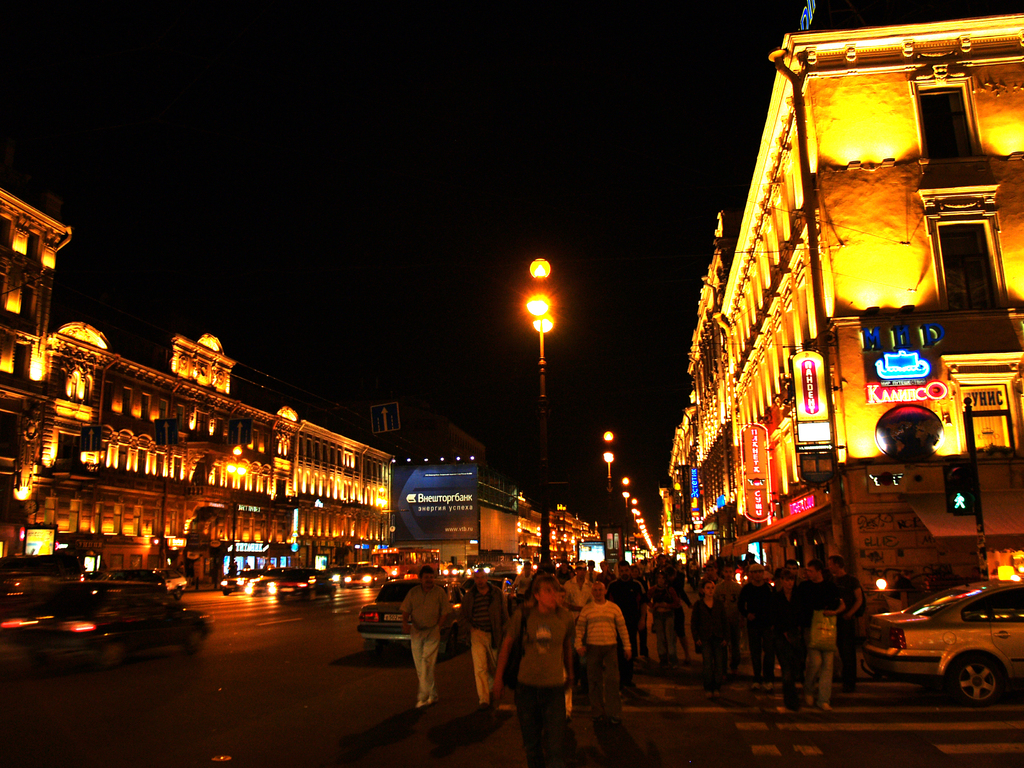Car: (841, 574, 1022, 718), (0, 584, 220, 669), (352, 583, 466, 658), (217, 559, 397, 606)
